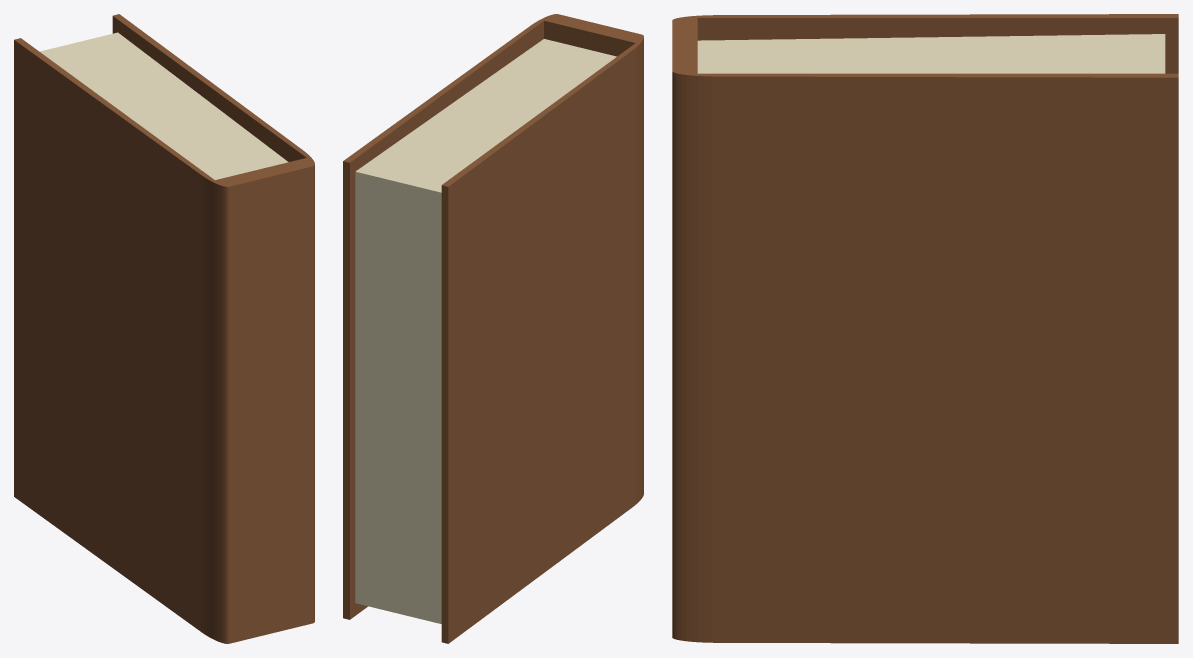
The model's file is Book 3.fbx.
3 views of the same model, side by side, from view 1: azimuth 30°, elevation 25°; view 2: azimuth 150°, elevation 25°; view 3: azimuth 270°, elevation 25° (orthographic). The views are drawn at different scales.
Parts seen in each view (by area): view 1: Cube; view 2: Cube; view 3: Cube.
Part boxes in pixels (x1=…): Cube: x1=14, y1=14, x2=314, y2=643; Cube: x1=343, y1=14, x2=643, y2=643; Cube: x1=672, y1=14, x2=1178, y2=643.
Size of the model in its own units: 34.04 by 141 by 114.
